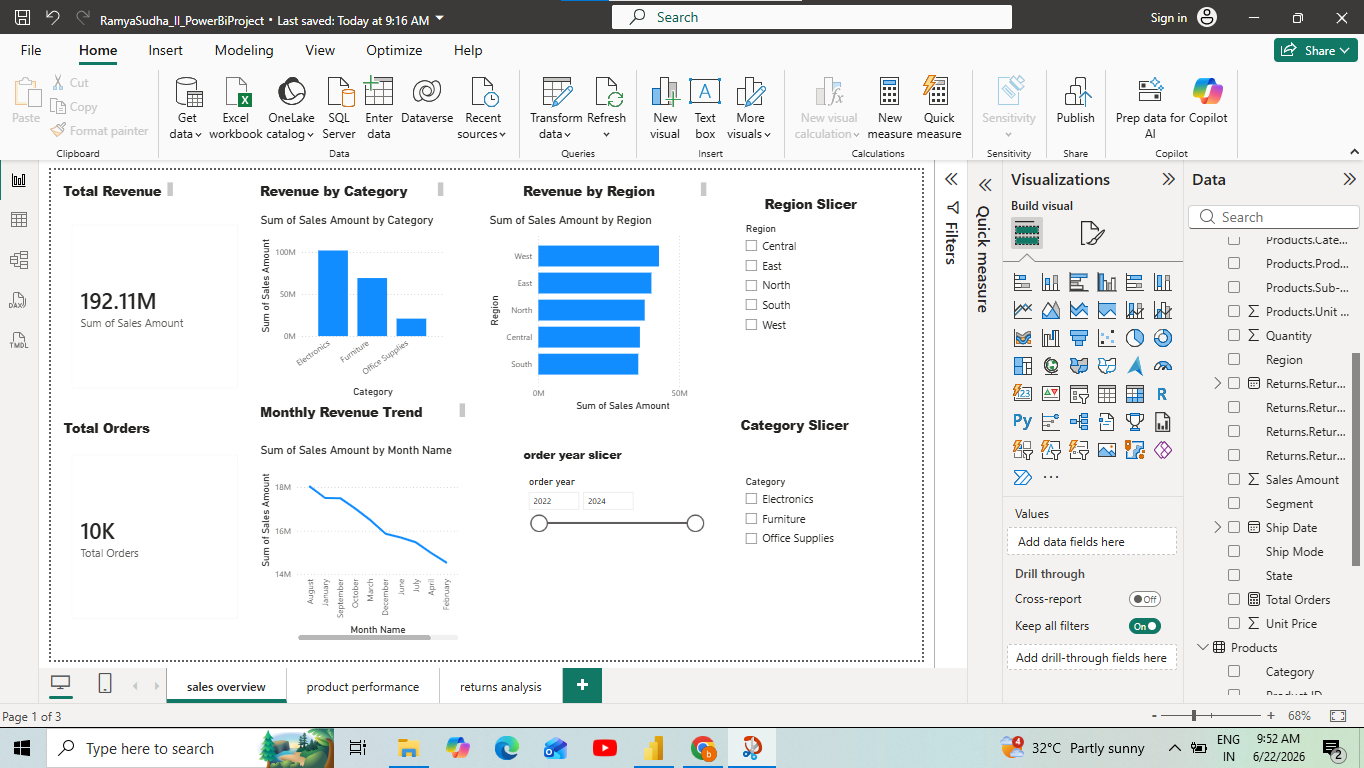

This screenshot's page, from the dashboard's own definition file:
{"tool":"powerbi","page":{"name":"sales overview","canvas":[1280,720],"ordinal":0},"visuals":[{"type":"cardVisual","fields":{"Data":["Sum(Orders.Sales Amount)"]},"box":[13,63.4,279.4,275],"z":0},{"type":"textbox","box":[13,13,171.4,33.1],"z":1000},{"type":"cardVisual","fields":{"Data":["Orders.Total Orders"]},"box":[13,401.8,279.4,276.5],"z":2000},{"type":"textbox","box":[13,360,239,41.8],"z":3000},{"type":"clusteredColumnChart","fields":{"Category":["Products.Category"],"Y":["Sum(Orders.Sales Amount)"]},"box":[302.4,63.4,279.4,275],"z":4000},{"type":"textbox","box":[302.4,13,279.4,33.1],"z":5000},{"type":"lineChart","fields":{"Category":["Orders.Month Name"],"Y":["Sum(Orders.Sales Amount)"]},"box":[302.4,401.8,301,295.2],"z":6000},{"type":"textbox","box":[302.4,338.4,311,33.1],"z":7000},{"type":"clusteredBarChart","fields":{"Category":["Orders.Region"],"Y":["Sum(Orders.Sales Amount)"]},"box":[639.4,63.4,342.7,296.6],"z":8000},{"type":"textbox","box":[689.8,13,279.4,33.1],"z":9000},{"type":"textbox","box":[689.8,401.8,279.4,33.1],"z":10000},{"type":"slicer","fields":{"Values":["Orders.order year"]},"box":[689.8,445,279.4,231.8],"z":11000},{"type":"textbox","box":[1044,30.2,210.2,43.2],"z":12000},{"type":"slicer","fields":{"Values":["Orders.Region"]},"box":[1009.4,73.4,244.8,220.3],"z":13000},{"type":"textbox","box":[1009.4,355.7,244.8,46.1],"z":14000},{"type":"slicer","fields":{"Values":["Products.Category"]},"box":[1009,445,245,232],"z":15000}]}

Visuals, with their boxes on the page's 1280x720 design canvas (x1, y1, x2, y2). These are canvas units, not pixel positions in the 1364x768 screenshot, which may show the page scaled, cropped or inside an application window:
cardVisual - Sum(Orders.Sales Amount): select_region(13, 63, 292, 338)
textbox: select_region(13, 13, 184, 46)
cardVisual - Orders.Total Orders: select_region(13, 402, 292, 678)
textbox: select_region(13, 360, 252, 402)
clusteredColumnChart - Products.Category x Sum(Orders.Sales Amount): select_region(302, 63, 582, 338)
textbox: select_region(302, 13, 582, 46)
lineChart - Orders.Month Name x Sum(Orders.Sales Amount): select_region(302, 402, 603, 697)
textbox: select_region(302, 338, 613, 372)
clusteredBarChart - Orders.Region x Sum(Orders.Sales Amount): select_region(639, 63, 982, 360)
textbox: select_region(690, 13, 969, 46)
textbox: select_region(690, 402, 969, 435)
slicer - Orders.order year: select_region(690, 445, 969, 677)
textbox: select_region(1044, 30, 1254, 73)
slicer - Orders.Region: select_region(1009, 73, 1254, 294)
textbox: select_region(1009, 356, 1254, 402)
slicer - Products.Category: select_region(1009, 445, 1254, 677)
